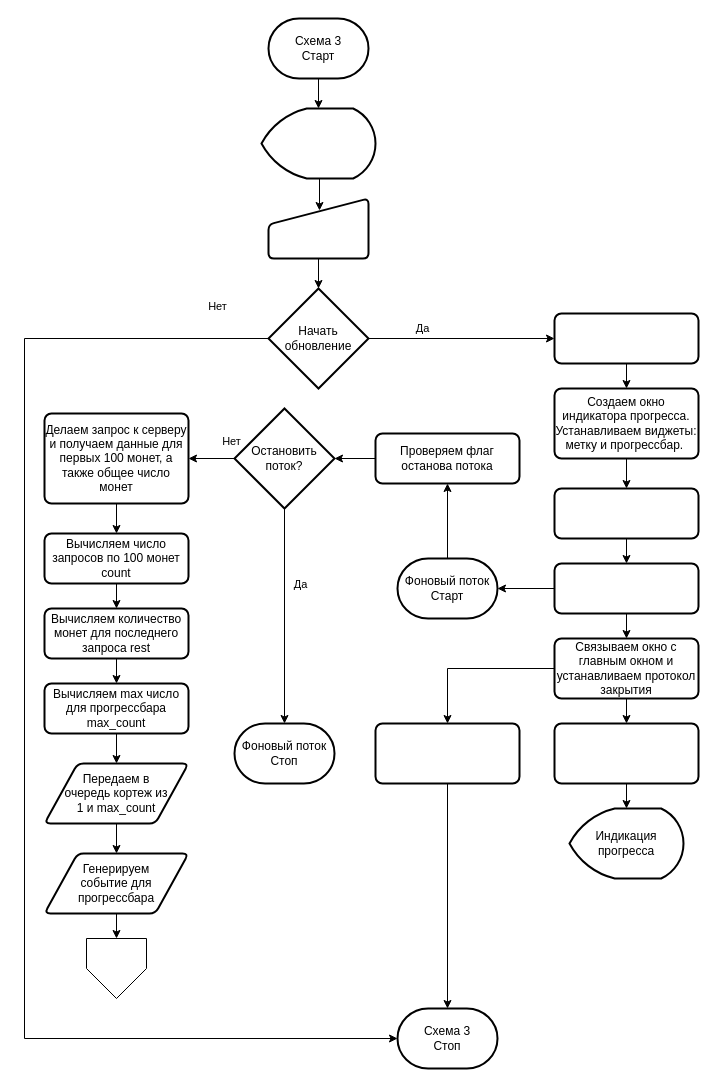
Some shapes in this 717 by 1086 pixel diagram are drawn without their labels. Each missing label, with the box of its shape:
Делаем пункт меню "Обновить справочник" неактивным: (553, 312, 699, 364)
Запускаем фоновый поток: (553, 562, 699, 614)
Запустить обновление Справочника?: (260, 107, 376, 179)
Обработка событий закрытия окна: (374, 722, 520, 784)
Обработка событий прогрессбара: (553, 722, 699, 784)
Получить ответ: (267, 197, 369, 259)
Создаем обработчик события изменения окна индикатора прогресса: (553, 487, 699, 539)
Схема 3, стр.2: (86, 938, 146, 998)
